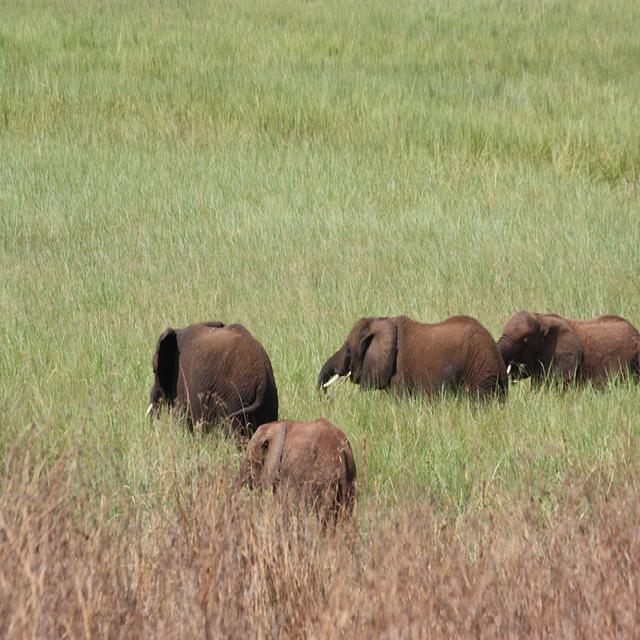Elephant: (316, 313, 509, 405), (144, 319, 278, 441), (232, 417, 357, 538), (496, 307, 639, 393)
